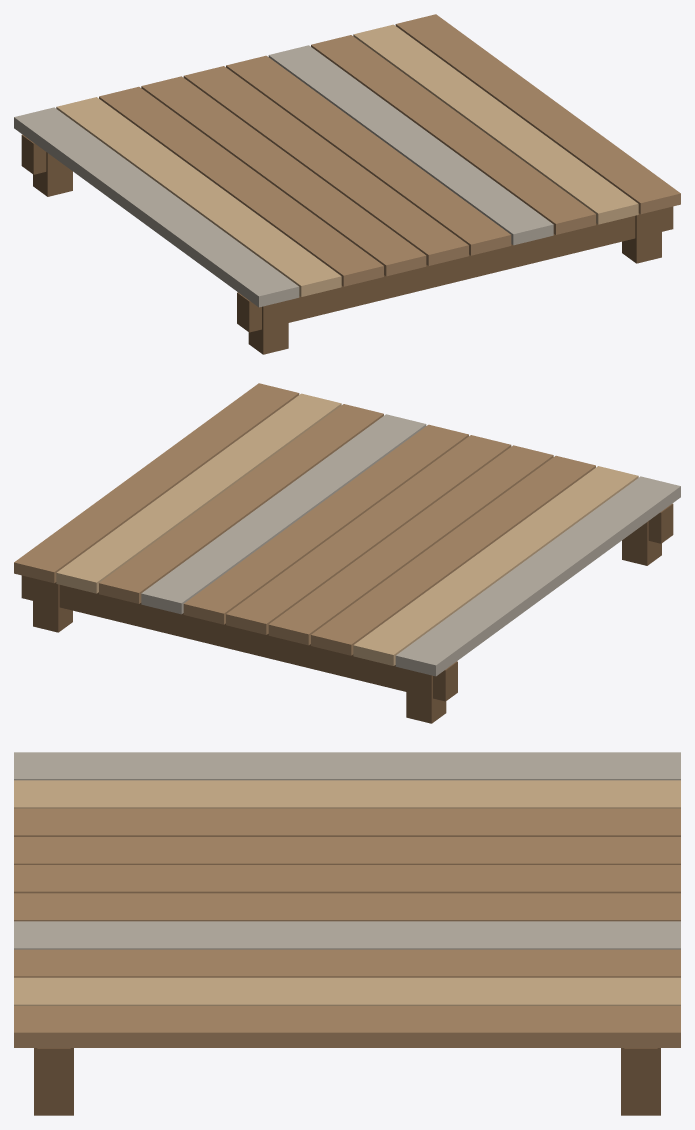
File: SM_Boardwalk.glb
3 renders of one model, top to bottom at view 1: azimuth 30°, elevation 25°; view 2: azimuth 150°, elevation 25°; view 3: azimuth 270°, elevation 25°, orthographic. The views are drawn at different scales.
Visible parts, largest first — view 1: SM_Boardwalk; view 2: SM_Boardwalk; view 3: SM_Boardwalk.
Boxes of the visible parts, <box> form: SM_Boardwalk: <box>14,14,680,354</box>; SM_Boardwalk: <box>14,383,680,723</box>; SM_Boardwalk: <box>14,752,680,1115</box>.
Size of the model in its own units: 2 by 0.3 by 2.
